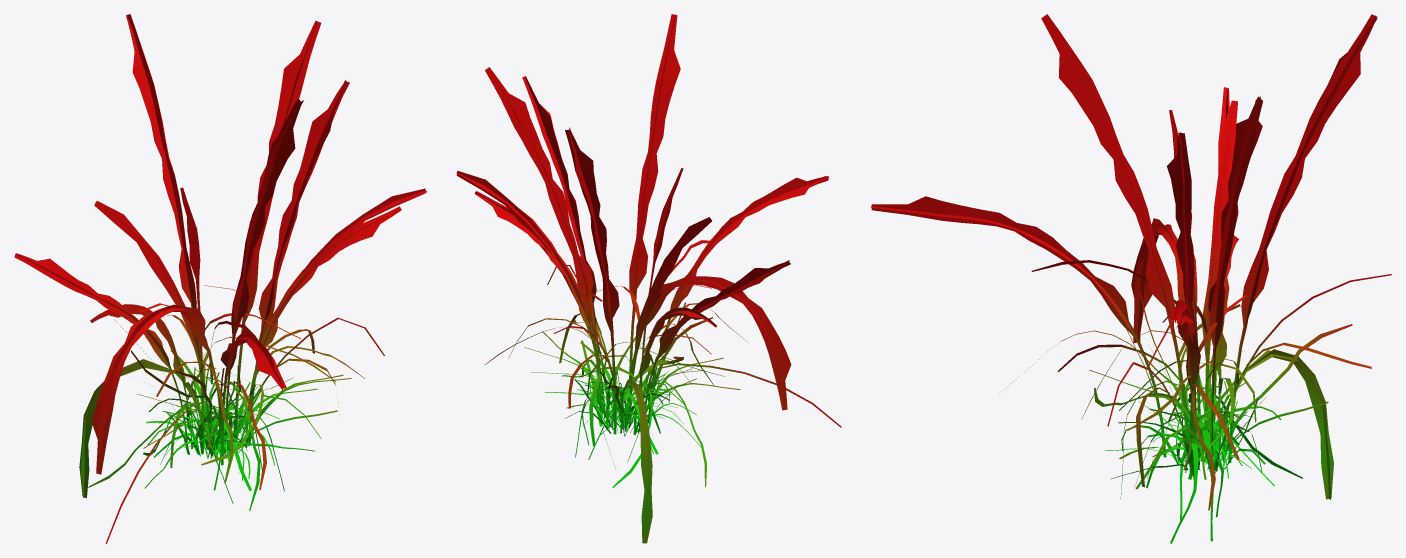
File: Var2_LOD1.fbx
The picture shows the model from 3 angles, left to right: view 1: azimuth 30°, elevation 25°; view 2: azimuth 150°, elevation 25°; view 3: azimuth 270°, elevation 25°; orthographic projection. The views are drawn at different scales.
Parts seen in each view (by area): view 1: Var2_LOD1; view 2: Var2_LOD1; view 3: Var2_LOD1.
Boxes of the visible parts, box(x1,y1,x2,y2) form: Var2_LOD1: box(14, 14, 426, 543); Var2_LOD1: box(456, 14, 841, 543); Var2_LOD1: box(870, 14, 1391, 543).
Size of the model in its own units: 55.65 by 63.9 by 56.37.
